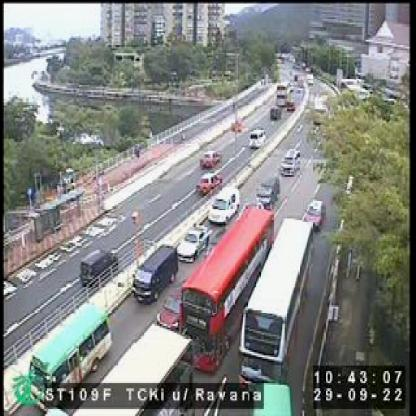Bus: (176, 206, 272, 371), (235, 215, 316, 392), (273, 76, 295, 104)
Car: (131, 241, 177, 307), (76, 243, 116, 286), (176, 220, 210, 258), (206, 184, 240, 222), (302, 196, 328, 230), (280, 146, 304, 182), (192, 171, 224, 196), (256, 174, 281, 204), (198, 149, 221, 168), (247, 130, 265, 149), (268, 107, 283, 119)
Minibus: (26, 300, 113, 414)
